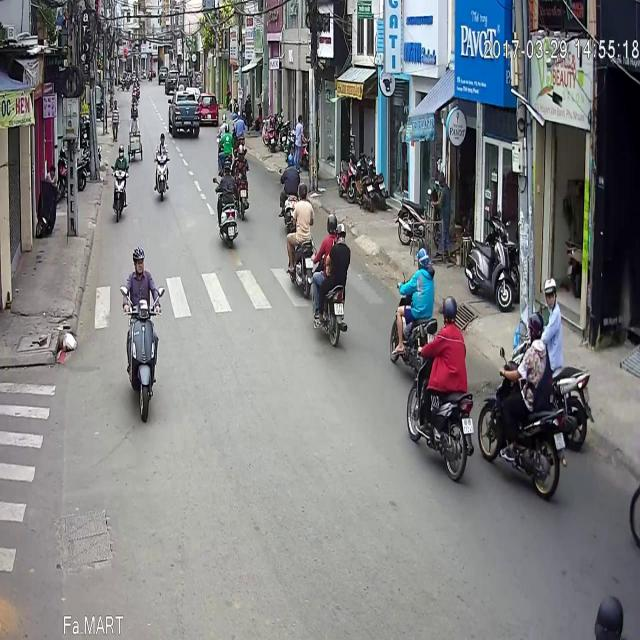car: (168, 34, 200, 80), (197, 35, 219, 65)
motorcycle: (477, 254, 567, 442), (406, 237, 474, 424), (536, 220, 594, 396), (119, 188, 164, 366), (389, 188, 437, 316), (310, 155, 350, 289), (286, 123, 314, 241), (212, 100, 238, 190), (278, 96, 300, 172), (110, 86, 128, 166), (233, 84, 249, 162), (153, 74, 169, 143), (215, 64, 235, 114), (231, 52, 245, 92)
